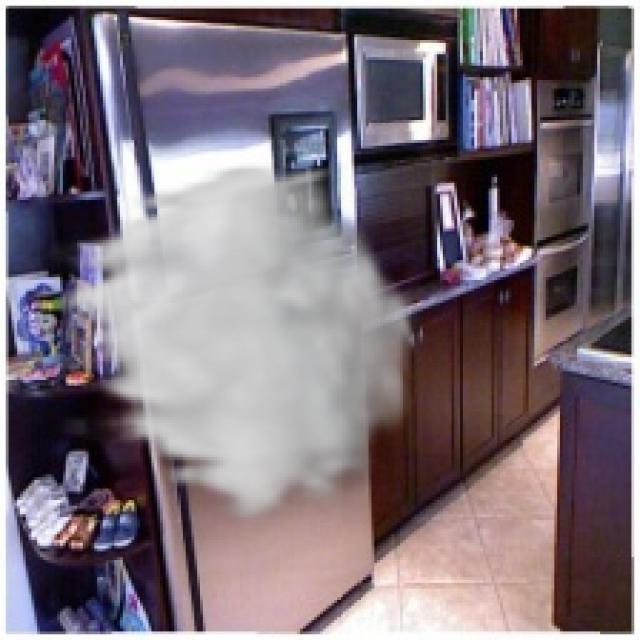Smoke: (46, 160, 423, 526)
